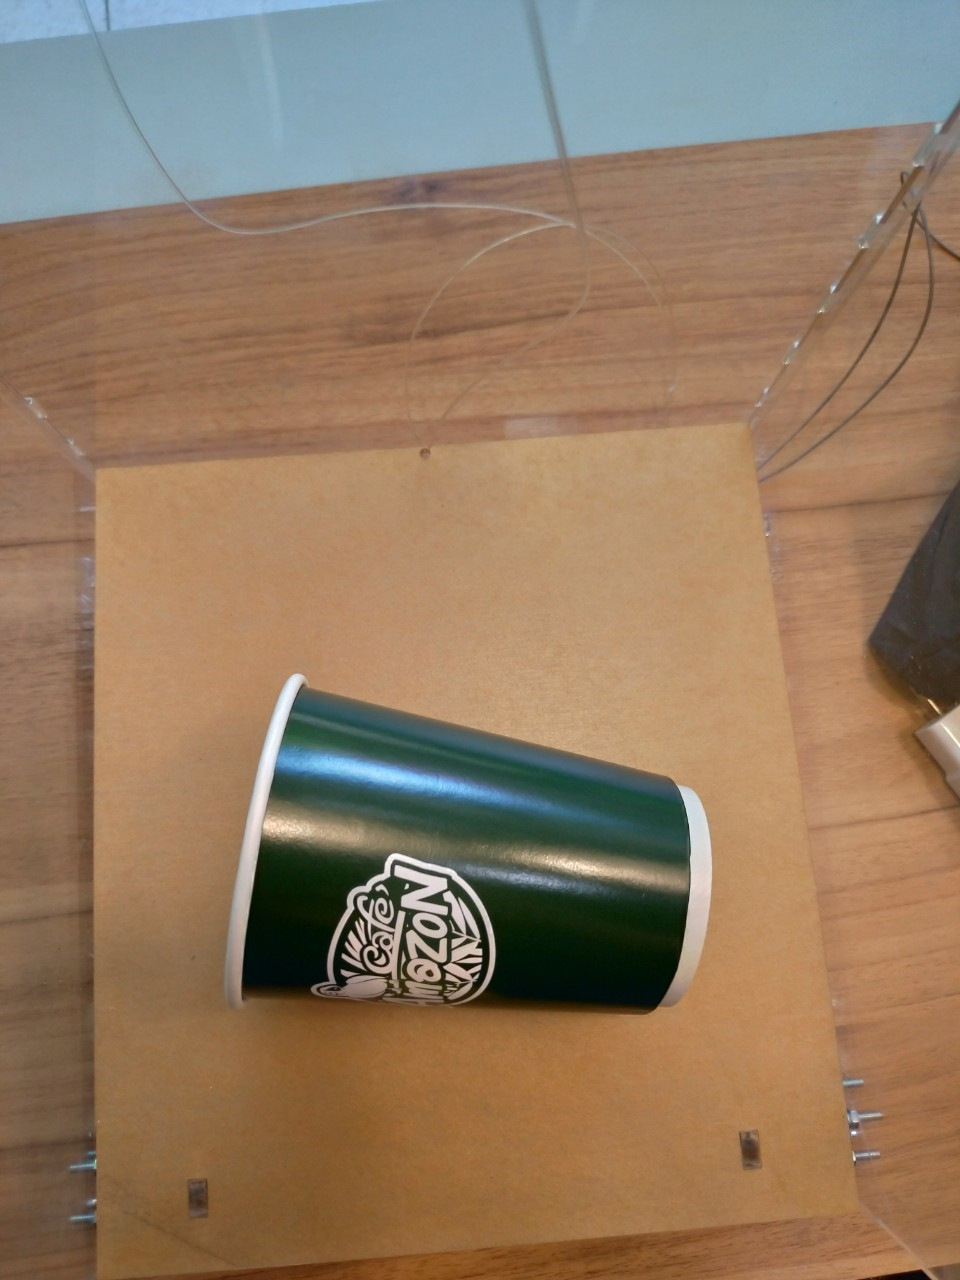PaperCup: (222, 674, 712, 1015)
